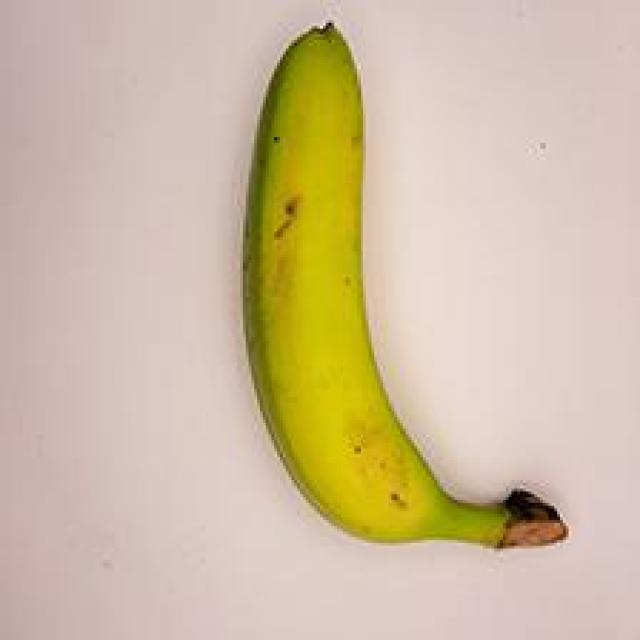unripe: (200, 8, 588, 592)
